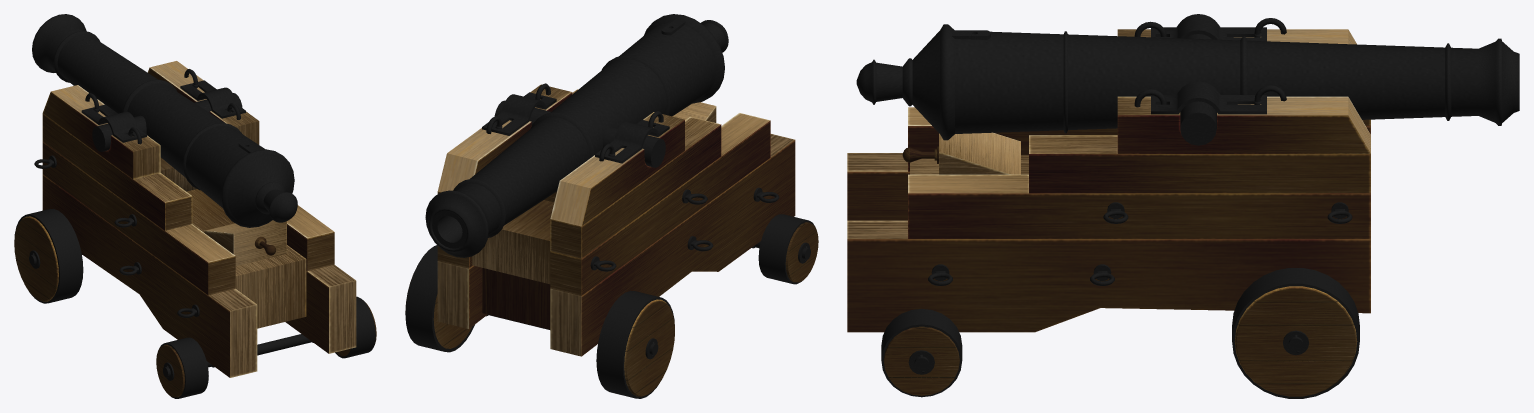
Rendered from cannon.fbx.
3 renders of one model, left to right at view 1: azimuth 30°, elevation 25°; view 2: azimuth 150°, elevation 25°; view 3: azimuth 270°, elevation 25°, orthographic. The views are drawn at different scales.
Visible parts, largest first — view 1: Cube_012, Cube_001, Cube_003, Cube_005, Cube_002, Cube_000; view 2: Cube_012, Cube_001, Cube_003, Cube_004, Cube_005, Cube_002; view 3: Cube_012, Cube_001, Cube_004, Cube_000, Cube_002.
Part boxes in pixels (x1,y1,x2,y2): Cube_012: (29,61,356,377); Cube_001: (32,14,297,227); Cube_003: (14,208,83,303); Cube_005: (156,337,208,398); Cube_002: (204,220,286,265); Cube_000: (335,296,376,358); Cube_012: (437,83,810,356); Cube_001: (425,14,728,257); Cube_003: (596,290,674,398); Cube_004: (405,245,474,352); Cube_005: (758,214,818,284); Cube_002: (672,102,716,122); Cube_012: (847,14,1370,372); Cube_001: (856,24,1519,145); Cube_004: (1232,268,1359,398); Cube_000: (881,308,962,397); Cube_002: (902,132,1020,174).
Size of the model in its own units: 121 by 124 by 249.
